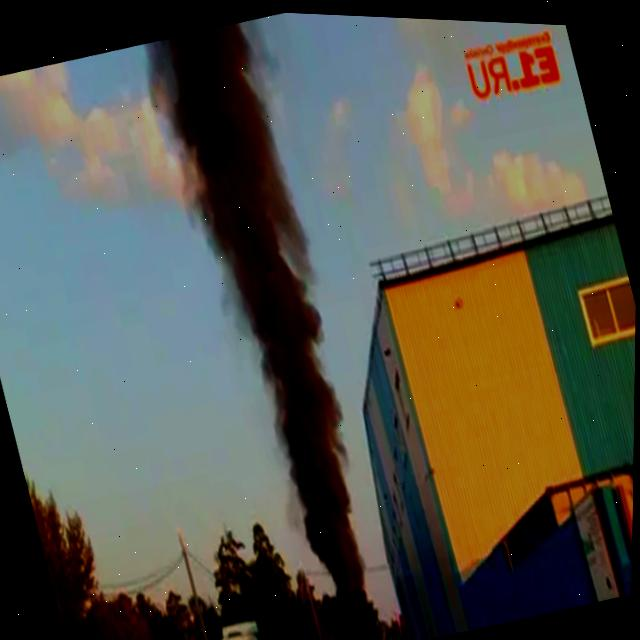Smoke: (148, 11, 406, 605)
